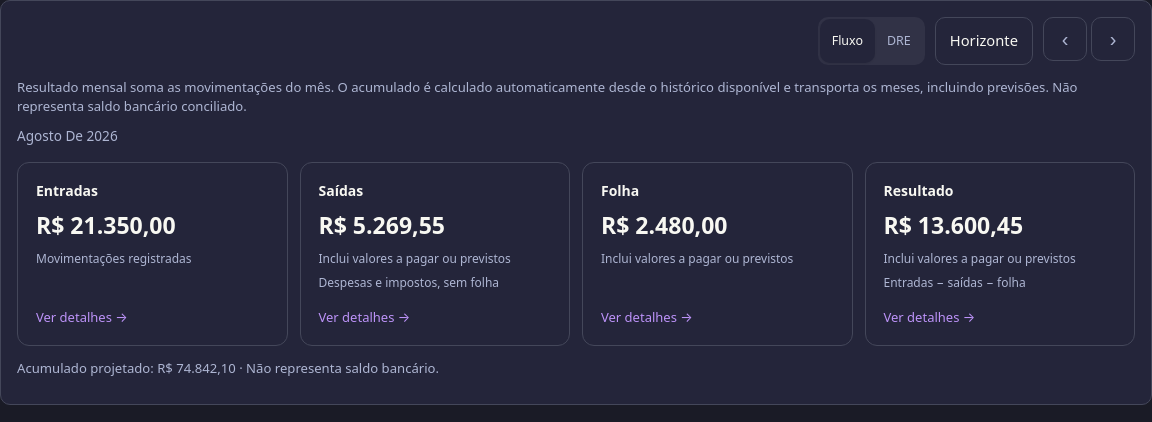
Test: o selo de demonstração › ⚠ o DRE também é selado — e ele é o que se lê como peça contábil
Click the button "DRE" at (899, 41), box [875,19,923,63]
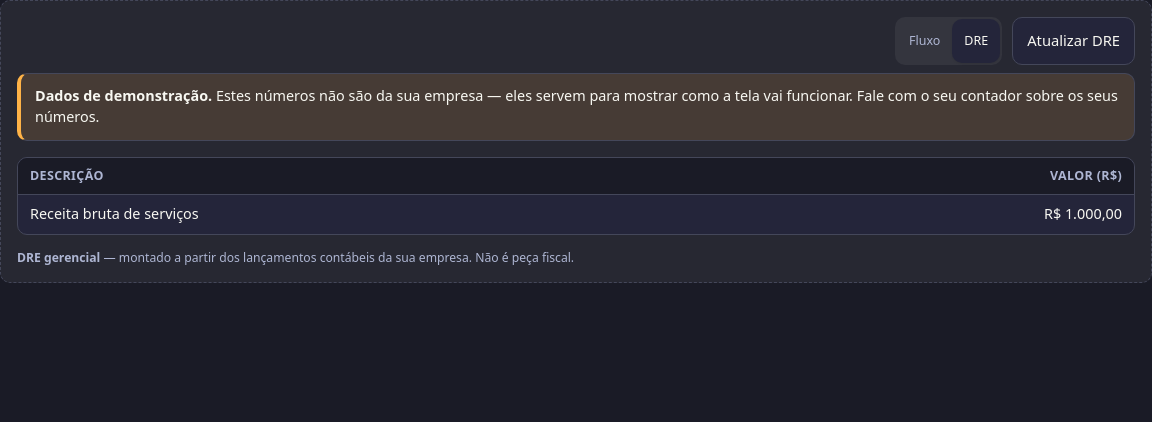
Expected: the text "Dados de demonstração." is shown, [35,86,212,105]
